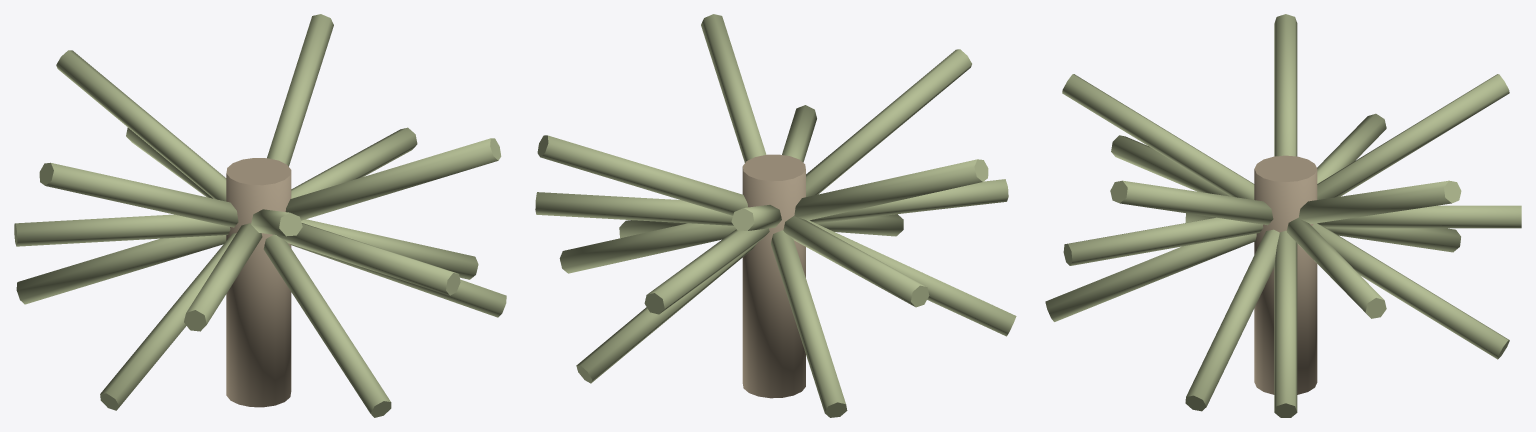
The model's file is arizona-yucca_lod0.glb.
3 renders of one model, left to right at view 1: azimuth 30°, elevation 25°; view 2: azimuth 150°, elevation 25°; view 3: azimuth 270°, elevation 25°, orthographic. The views are drawn at different scales.
Parts seen in each view (by area): view 1: RF_YuccaStem, RF_YuccaLeaf.015, RF_YuccaLeaf.006, RF_YuccaLeaf.013, RF_YuccaLeaf.009, RF_YuccaLeaf.007, RF_YuccaLeaf.008, RF_YuccaLeaf.014, RF_YuccaLeaf.010, RF_YuccaLeaf.003, RF_YuccaLeaf.011, RF_YuccaLeaf.002 (+4 smaller); view 2: RF_YuccaStem, RF_YuccaLeaf.003, RF_YuccaLeaf.012, RF_YuccaLeaf.009, RF_YuccaLeaf.007, RF_YuccaLeaf.002, RF_YuccaLeaf.001, RF_YuccaLeaf.008, RF_YuccaLeaf.015, RF_YuccaLeaf.005, RF_YuccaLeaf.010, RF_YuccaLeaf.004 (+5 smaller); view 3: RF_YuccaStem, RF_YuccaLeaf.012, RF_YuccaLeaf.006, RF_YuccaLeaf.004, RF_YuccaLeaf.013, RF_YuccaLeaf, RF_YuccaLeaf.014, RF_YuccaLeaf.001, RF_YuccaLeaf.005, RF_YuccaLeaf.015, RF_YuccaLeaf.003, RF_YuccaLeaf.009 (+4 smaller).
Boxes of the visible parts, bbox=[...] form: RF_YuccaStem: bbox=[226, 158, 291, 407]; RF_YuccaLeaf.015: bbox=[285, 138, 501, 220]; RF_YuccaLeaf.006: bbox=[56, 50, 226, 201]; RF_YuccaLeaf.013: bbox=[263, 234, 391, 417]; RF_YuccaLeaf.009: bbox=[39, 162, 238, 227]; RF_YuccaLeaf.007: bbox=[16, 235, 226, 304]; RF_YuccaLeaf.008: bbox=[14, 214, 230, 246]; RF_YuccaLeaf.014: bbox=[277, 223, 460, 295]; RF_YuccaLeaf.010: bbox=[100, 233, 236, 410]; RF_YuccaLeaf.003: bbox=[267, 14, 333, 166]; RF_YuccaLeaf.011: bbox=[184, 223, 262, 331]; RF_YuccaLeaf.002: bbox=[291, 127, 417, 198]; RF_YuccaStem: bbox=[742, 154, 805, 398]; RF_YuccaLeaf.003: bbox=[537, 135, 747, 215]; RF_YuccaLeaf.012: bbox=[806, 49, 971, 196]; RF_YuccaLeaf.009: bbox=[794, 159, 988, 220]; RF_YuccaLeaf.007: bbox=[771, 230, 847, 417]; RF_YuccaLeaf.002: bbox=[535, 192, 733, 225]; RF_YuccaLeaf.001: bbox=[559, 223, 735, 273]; RF_YuccaLeaf.008: bbox=[783, 216, 929, 307]; RF_YuccaLeaf.015: bbox=[701, 14, 766, 162]; RF_YuccaLeaf.005: bbox=[644, 228, 769, 314]; RF_YuccaLeaf.010: bbox=[807, 220, 1016, 336]; RF_YuccaLeaf.004: bbox=[576, 243, 756, 383]; RF_YuccaStem: bbox=[1254, 155, 1317, 394]; RF_YuccaLeaf.012: bbox=[1062, 74, 1254, 199]; RF_YuccaLeaf.006: bbox=[1317, 74, 1509, 199]; RF_YuccaLeaf.004: bbox=[1312, 223, 1509, 359]; RF_YuccaLeaf.013: bbox=[1045, 233, 1256, 321]; RF_YuccaLeaf: bbox=[1185, 229, 1279, 411]; RF_YuccaLeaf.014: bbox=[1063, 217, 1263, 265]; RF_YuccaLeaf.001: bbox=[1274, 230, 1297, 417]; RF_YuccaLeaf.005: bbox=[1317, 205, 1521, 228]; RF_YuccaLeaf.015: bbox=[1110, 180, 1273, 225]; RF_YuccaLeaf.003: bbox=[1298, 180, 1461, 224]; RF_YuccaLeaf.009: bbox=[1274, 14, 1297, 156].
Size of the model in its own units: 1.83 by 1.14 by 1.82.
